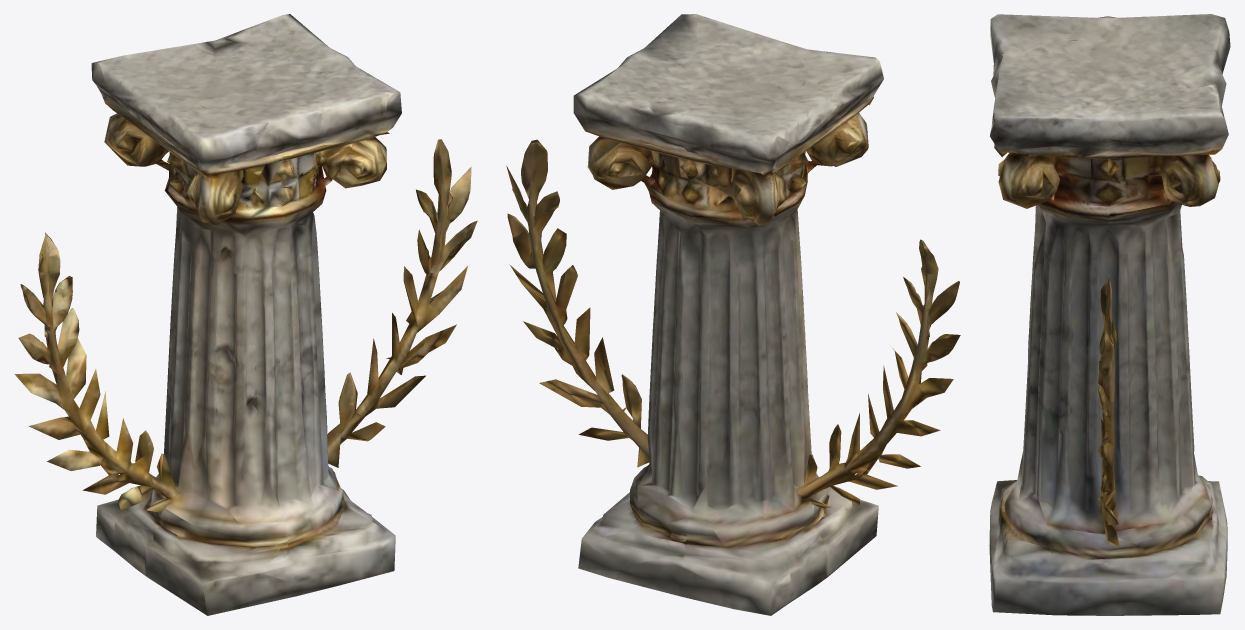
File: column.glb
3 views of the same model, side by side, from view 1: azimuth 30°, elevation 25°; view 2: azimuth 150°, elevation 25°; view 3: azimuth 270°, elevation 25° (orthographic). The views are drawn at different scales.
Parts seen in each view (by area): view 1: tripo_node_1d3250b2-bd14-4f85-953b-3b7028492d67; view 2: tripo_node_1d3250b2-bd14-4f85-953b-3b7028492d67; view 3: tripo_node_1d3250b2-bd14-4f85-953b-3b7028492d67.
Boxes of the visible parts, bbox=[...] form: tripo_node_1d3250b2-bd14-4f85-953b-3b7028492d67: bbox=[14, 14, 477, 615]; tripo_node_1d3250b2-bd14-4f85-953b-3b7028492d67: bbox=[506, 14, 960, 615]; tripo_node_1d3250b2-bd14-4f85-953b-3b7028492d67: bbox=[989, 14, 1230, 615].
Size of the model in its own units: 0.9751 by 0.9776 by 0.4257.
Materials: 1 (1 with a texture image).
